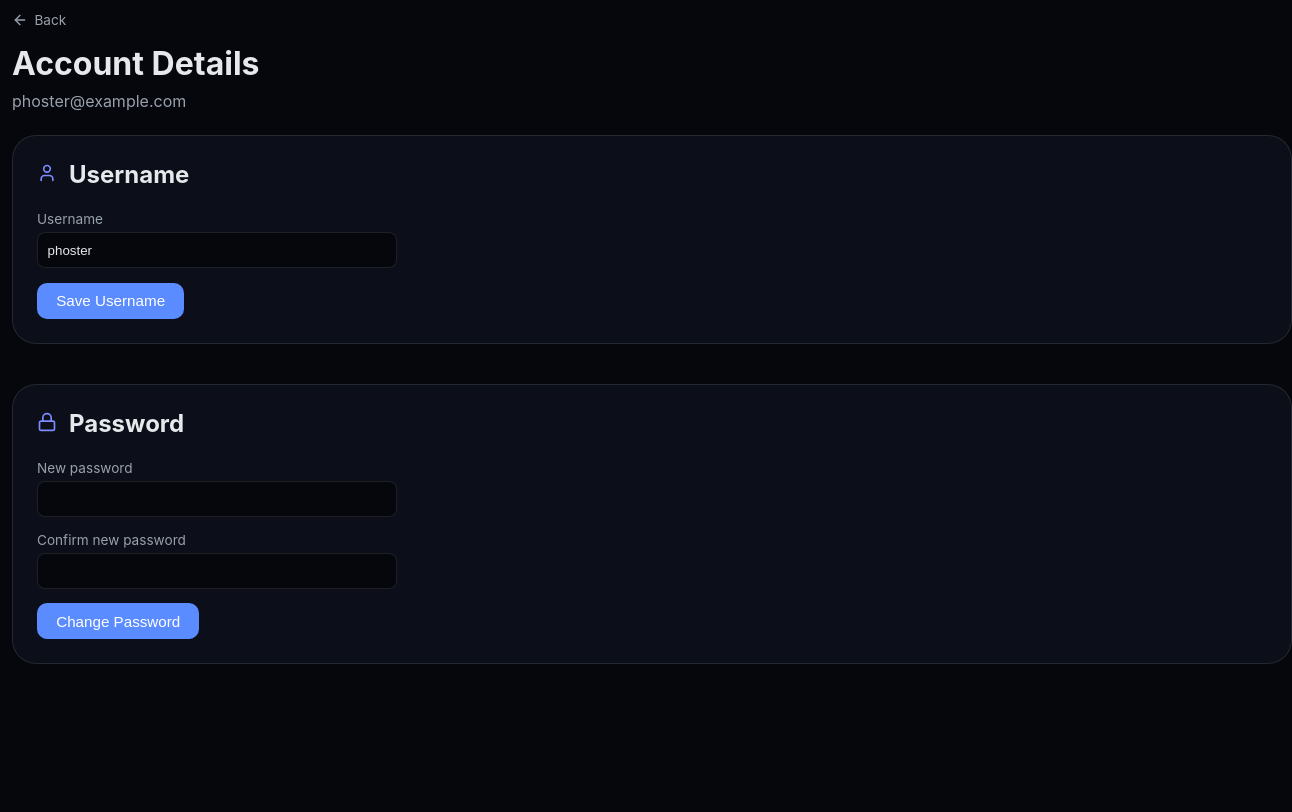
Test: Account › shows the backend's validation message if the username is rejected
Click the button "Save Username" at {"x": 111, "y": 301}, box top-left (37, 283), bottom-right (184, 319)
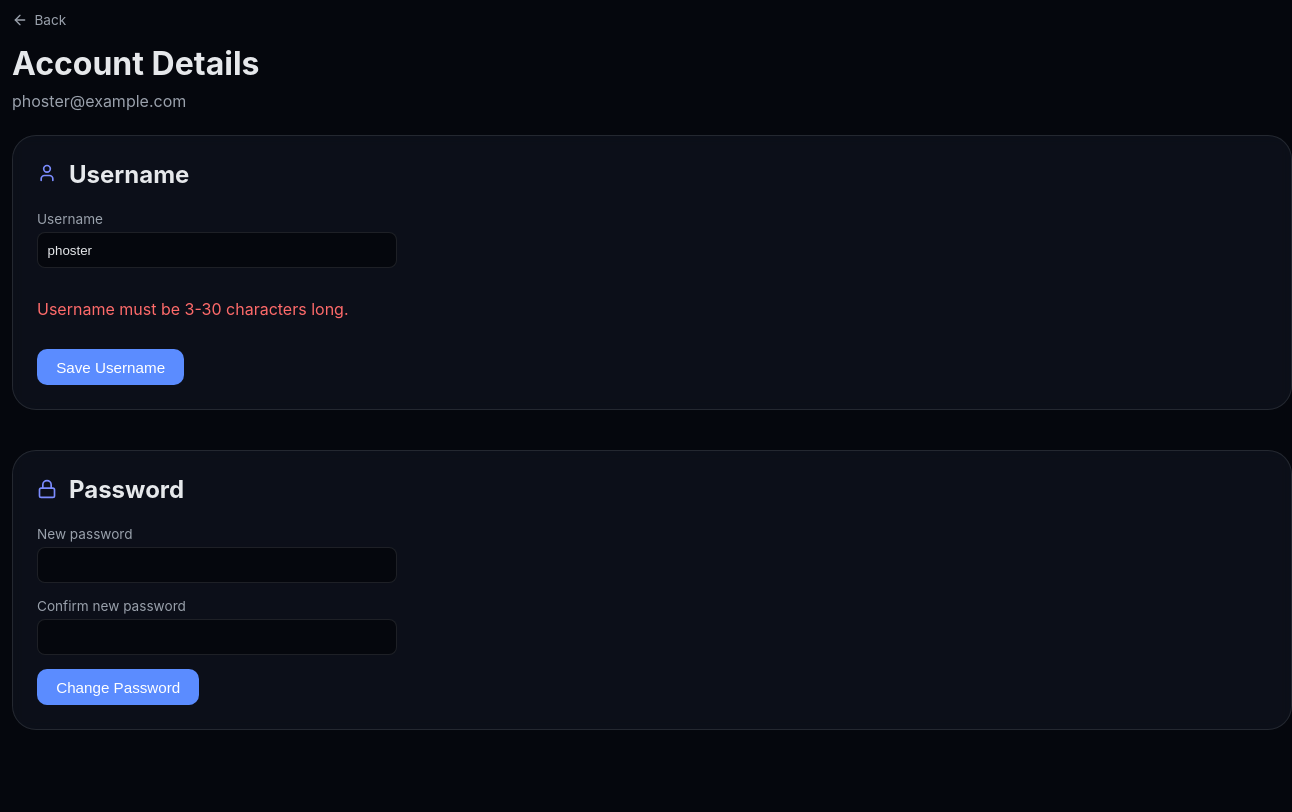
Expected: the text "Username must be 3-30 characters long." is shown, top-left (37, 299), bottom-right (397, 319)
